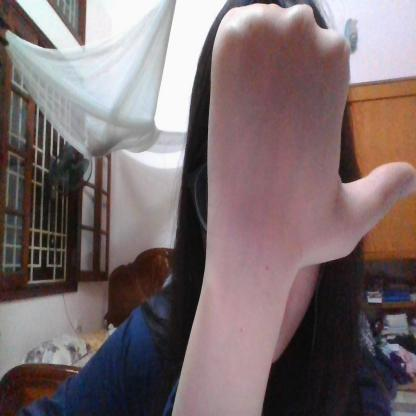left: (208, 1, 416, 303)
